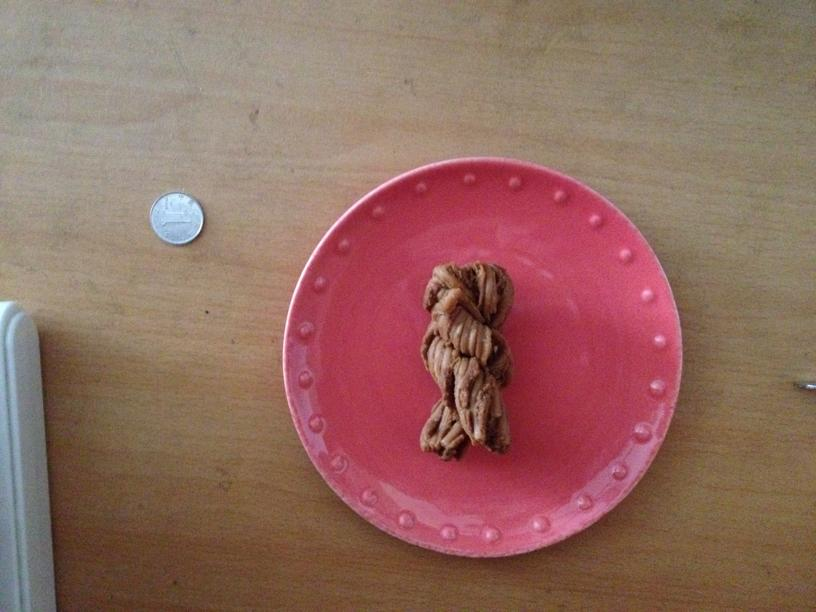coin: (149, 192, 204, 245)
fired_dough_twist: (415, 259, 515, 456)
